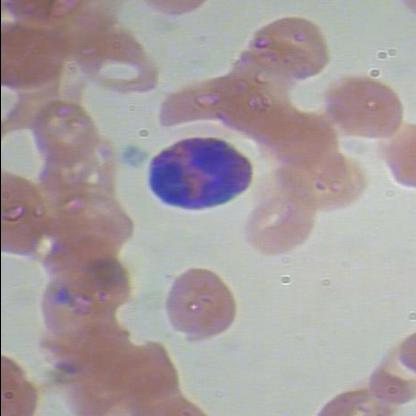RBC: (150, 66, 248, 142), (271, 146, 368, 222), (76, 24, 158, 106), (162, 266, 244, 347), (320, 71, 402, 152), (243, 11, 325, 92), (233, 183, 314, 264), (40, 190, 134, 258), (34, 268, 117, 344), (22, 100, 100, 166), (1, 25, 65, 92), (365, 338, 415, 412)
WBC: (146, 134, 258, 214)
